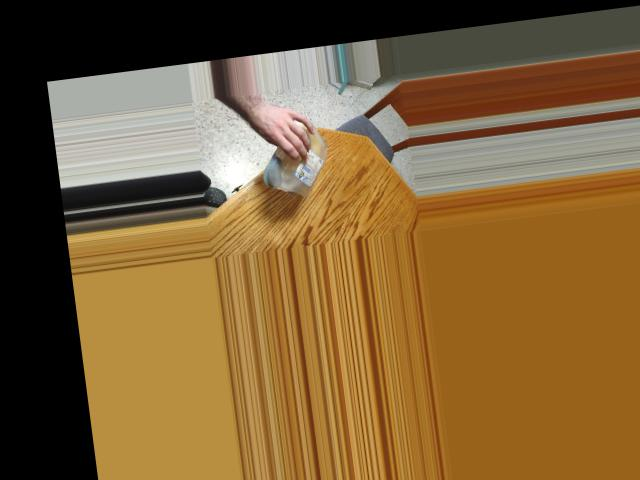cheese: (260, 111, 335, 198)
